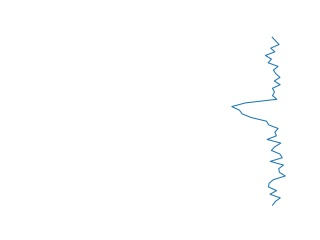interdistributaryEstuary: (227, 36, 293, 207)
